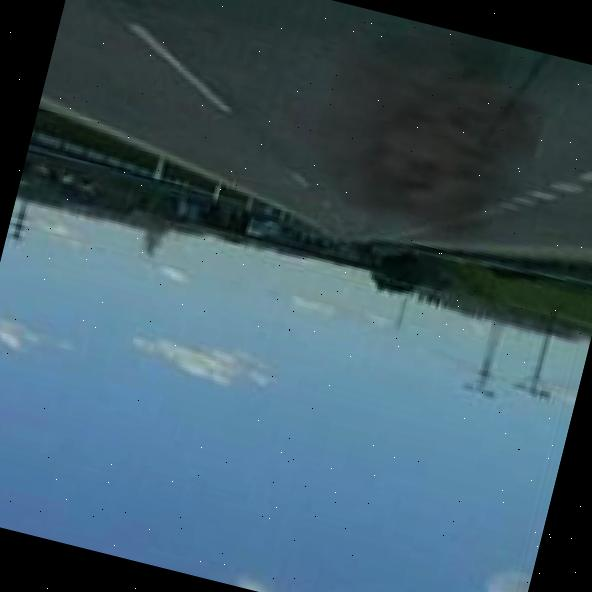smoke: (256, 0, 559, 263)
